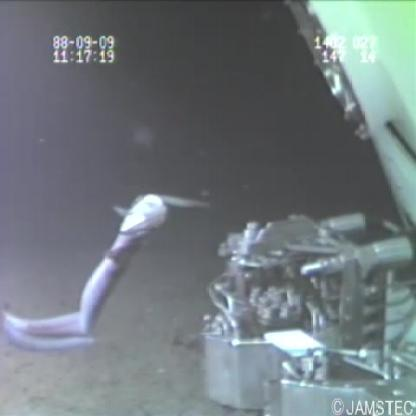Bio: (1, 187, 220, 361)
Rov: (195, 208, 416, 415)
